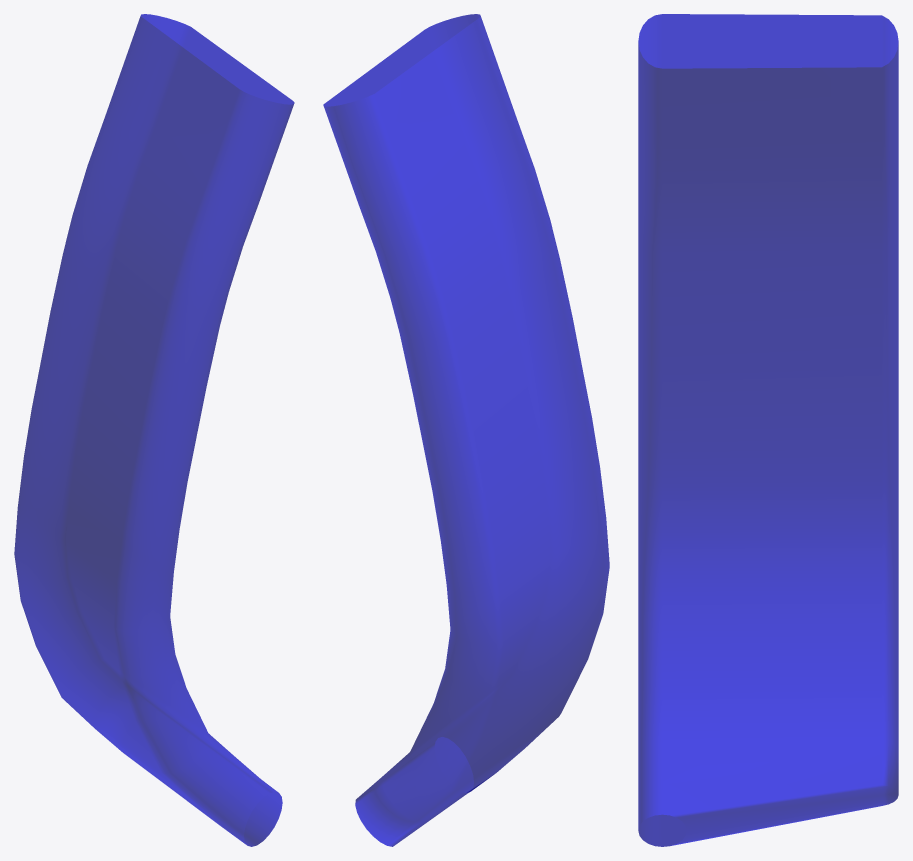
The picture shows the model from 3 angles, left to right: view 1: azimuth 30°, elevation 25°; view 2: azimuth 150°, elevation 25°; view 3: azimuth 270°, elevation 25°; orthographic projection. The views are drawn at different scales.
Visible parts, largest first — view 1: pCylinder2; view 2: pCylinder2; view 3: pCylinder2.
Part boxes in pixels (x1=…): pCylinder2: x1=14, y1=14, x2=294, y2=846; pCylinder2: x1=323, y1=14, x2=609, y2=846; pCylinder2: x1=638, y1=14, x2=898, y2=846.
Size of the model in its own units: 1.06 by 4.28 by 1.22.
